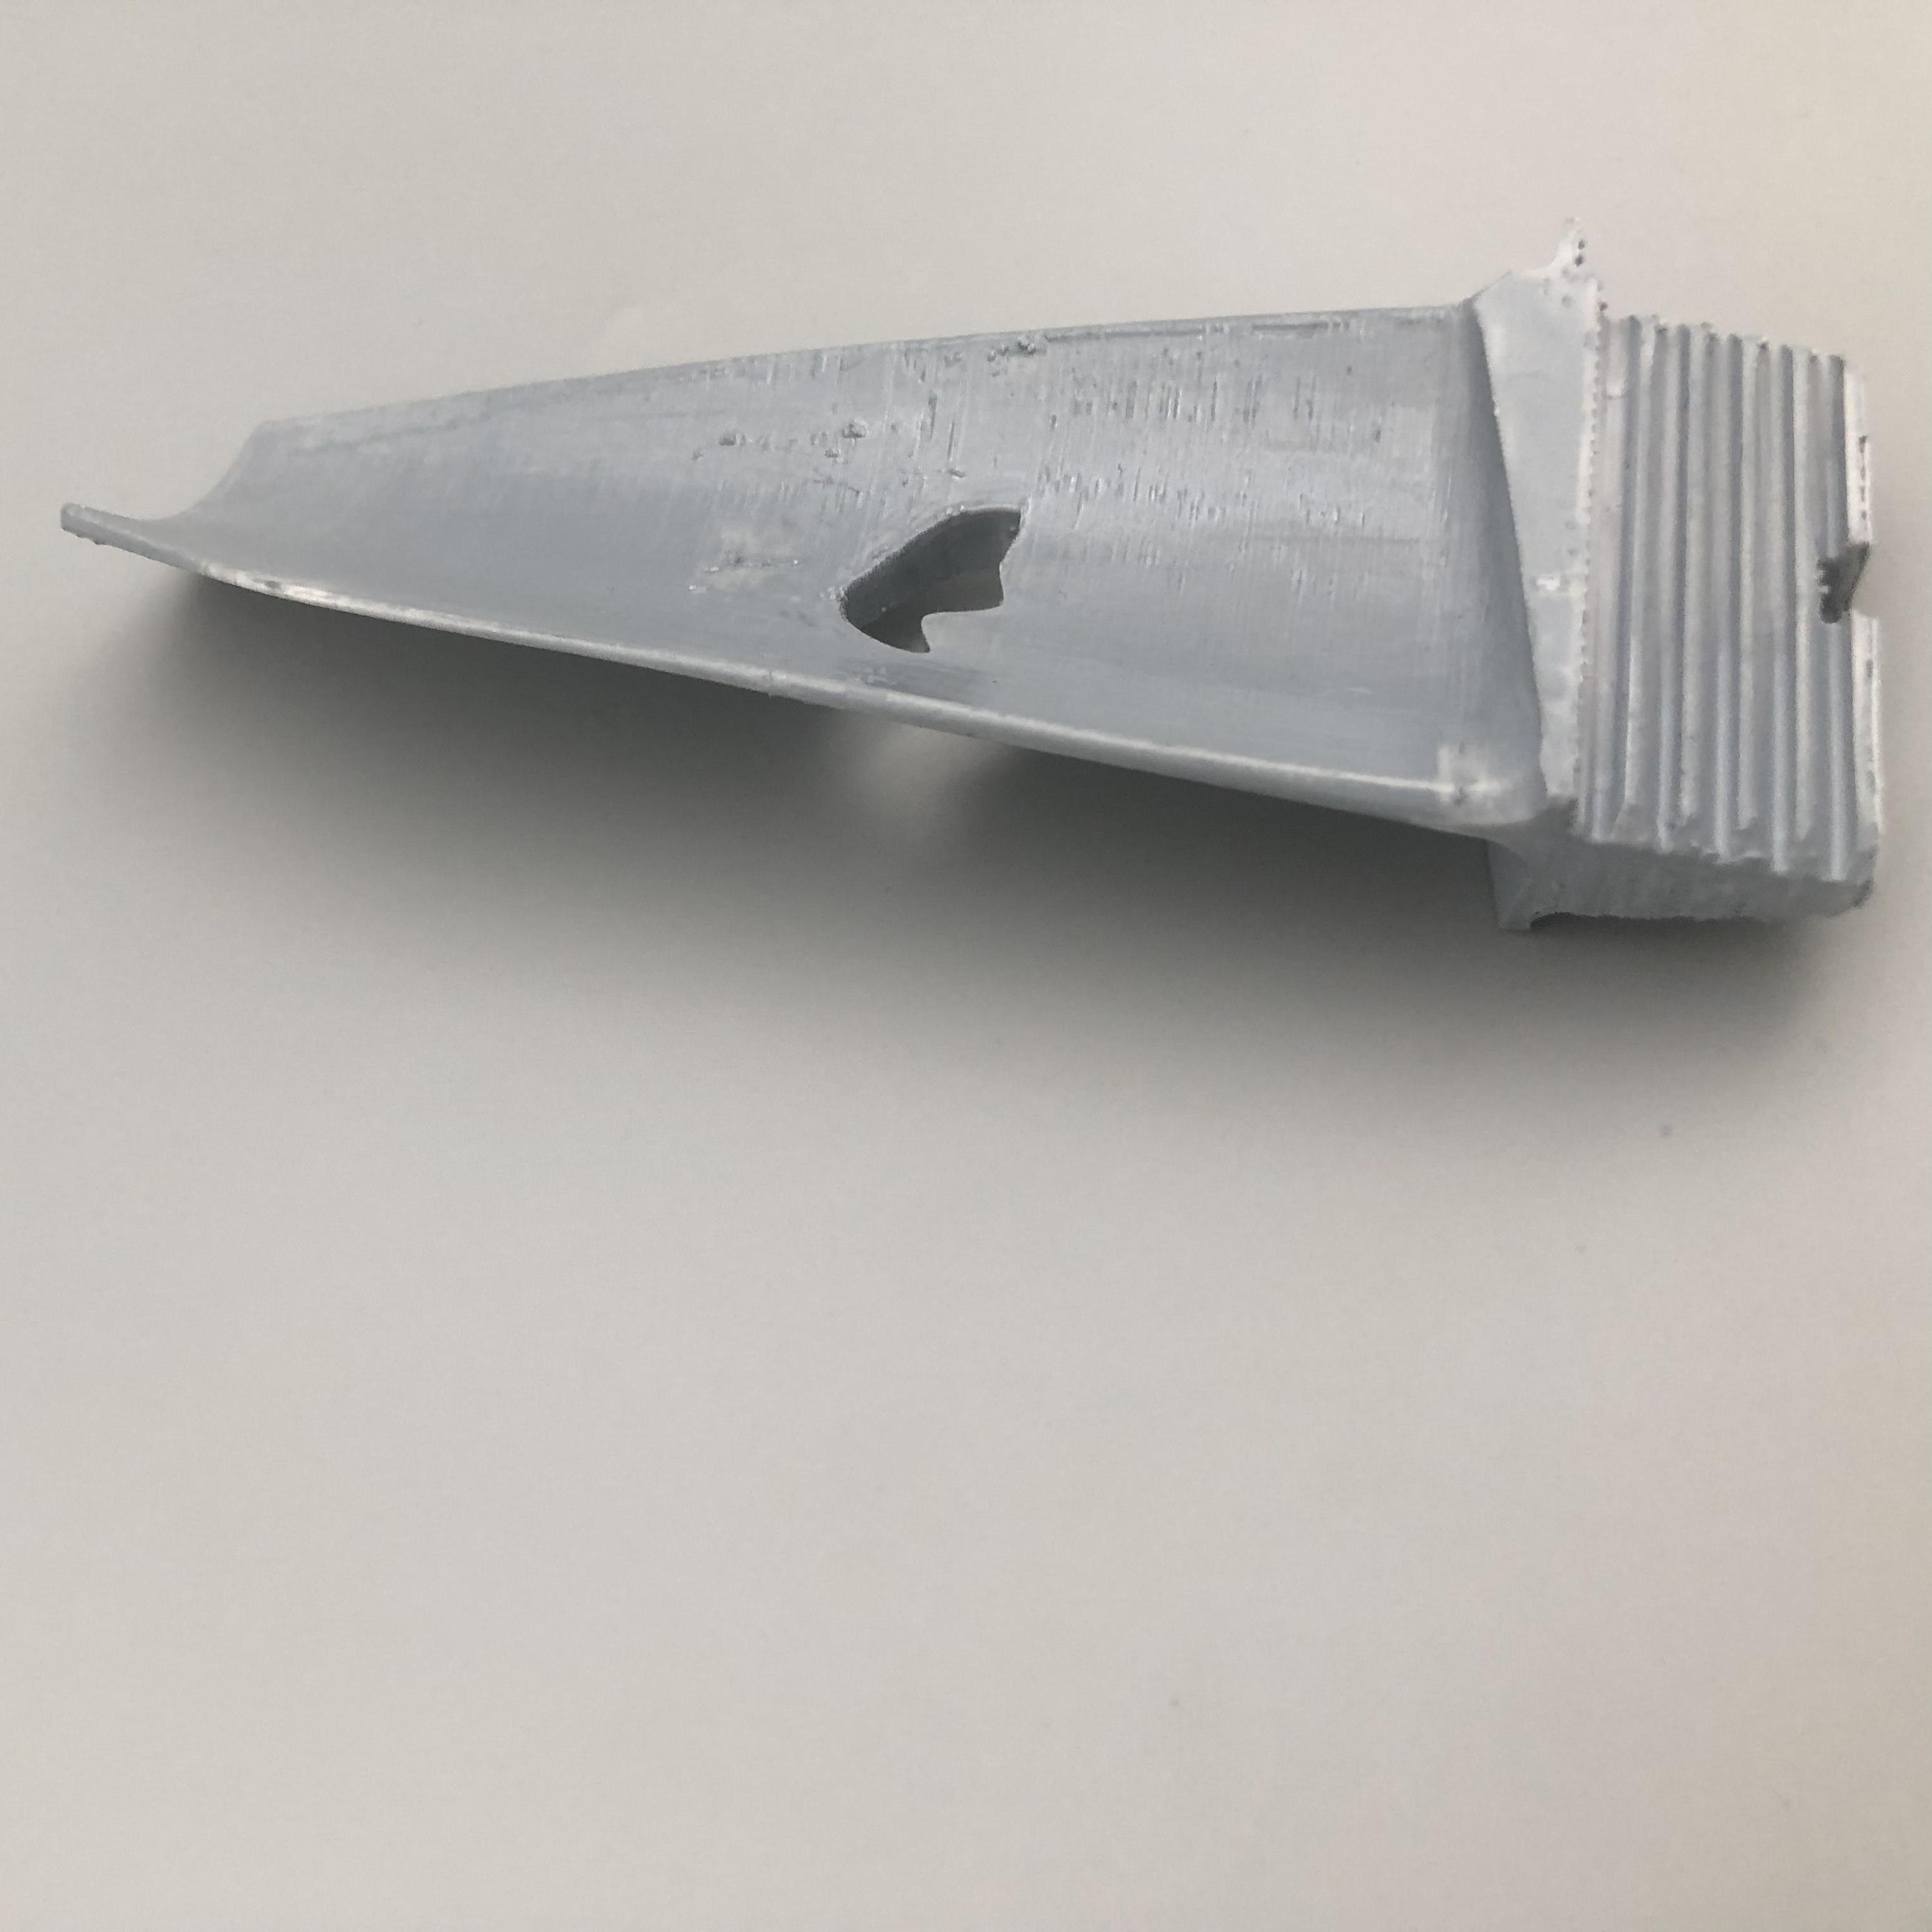breakdown: (835, 497, 1028, 660)
